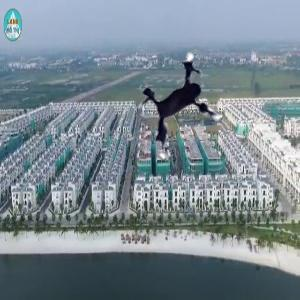drone: (122, 43, 253, 174)
